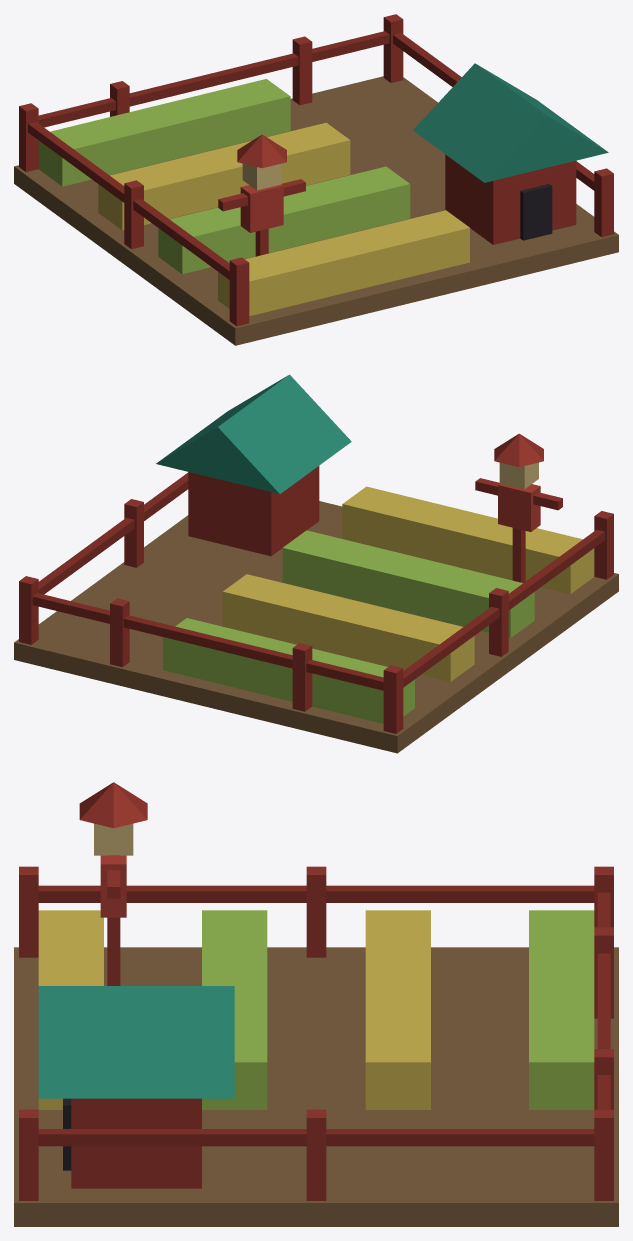
File: farm_t1.glb
3 renders of one model, top to bottom at view 1: azimuth 30°, elevation 25°; view 2: azimuth 150°, elevation 25°; view 3: azimuth 270°, elevation 25°, orthographic. The views are drawn at different scales.
Parts seen in each view (by area): view 1: body; view 2: body; view 3: body.
Boxes of the visible parts, x1=… form: body: x1=14, y1=14, x2=618, y2=345; body: x1=14, y1=374, x2=618, y2=753; body: x1=14, y1=782, x2=618, y2=1226.
Bounding box in the file's own units: 1.85 × 0.78 × 1.85.
